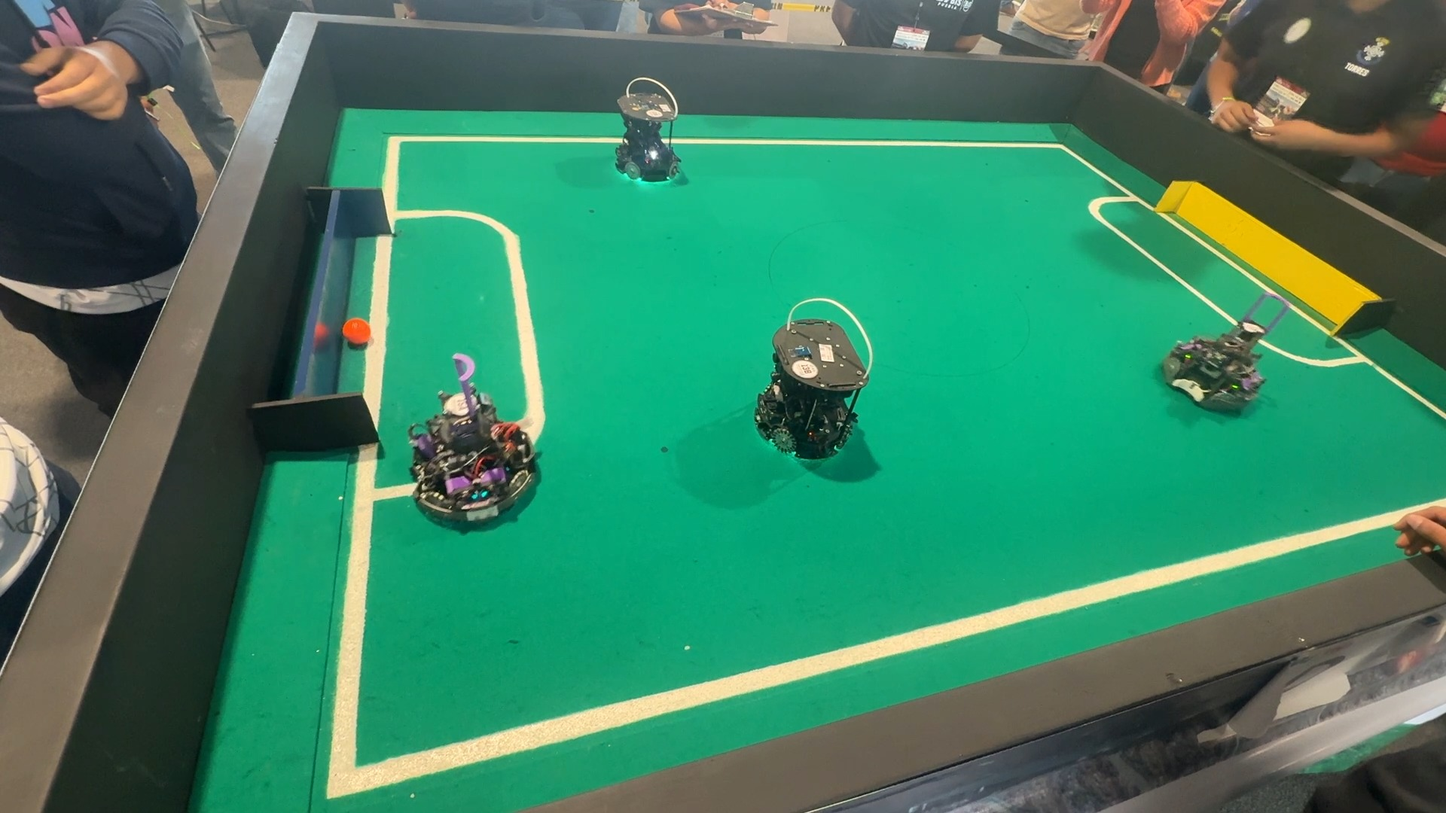Robot: (740, 291, 883, 492), (408, 346, 548, 545), (1153, 315, 1289, 430), (601, 78, 700, 202)
pelota: (346, 304, 379, 358)
